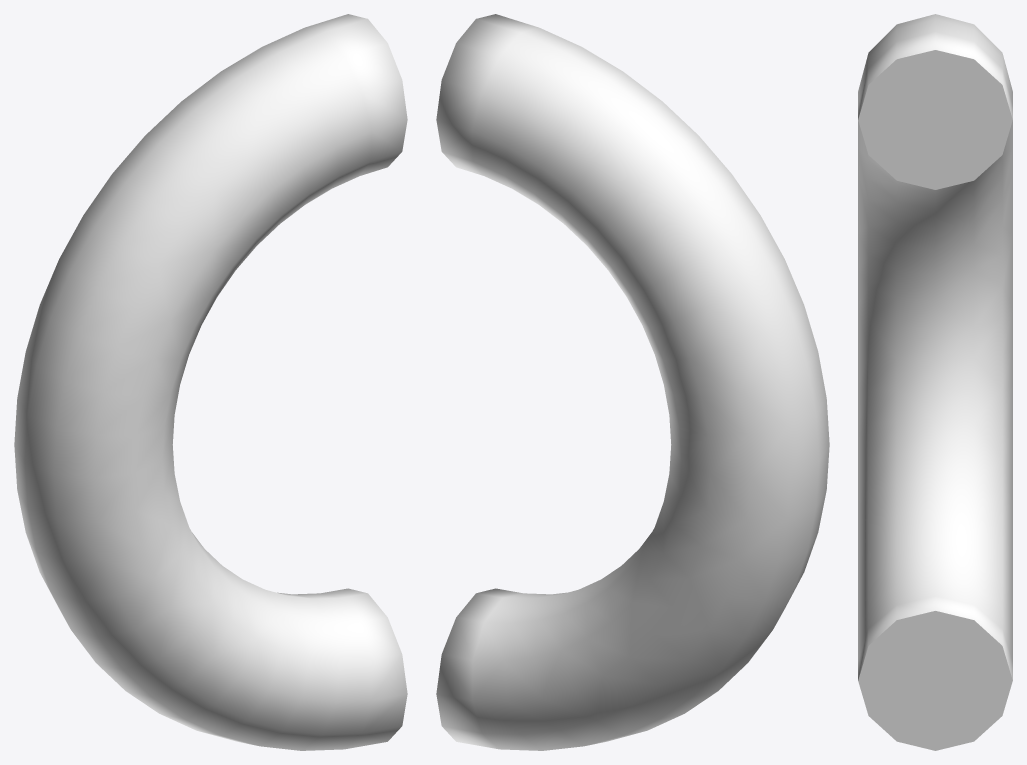
Rendered from Barrier.obj.
3 renders of one model, left to right at view 1: azimuth 30°, elevation 25°; view 2: azimuth 150°, elevation 25°; view 3: azimuth 270°, elevation 25°, orthographic. The views are drawn at different scales.
Parts seen in each view (by area): view 1: Barrier; view 2: Barrier; view 3: Barrier.
Part boxes in pixels (left/top/right/bottom): Barrier: left=14, top=14, right=407, bottom=750; Barrier: left=436, top=14, right=829, bottom=750; Barrier: left=858, top=14, right=1012, bottom=750.
Size of the model in its own units: 1.25 by 2.5 by 0.5.
1 material, 1 textured.
